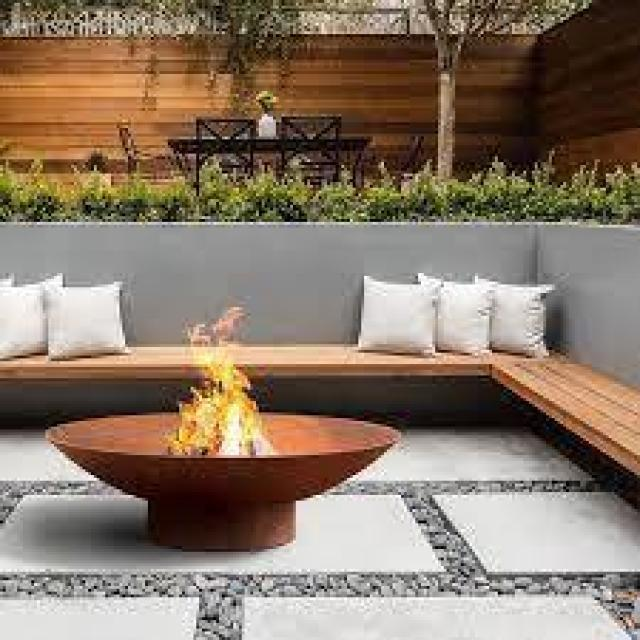Fire: (160, 296, 286, 462)
